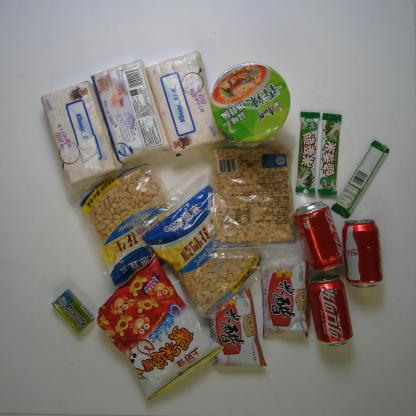Chocolate: (332, 140, 390, 220), (295, 112, 320, 195), (317, 111, 341, 196)
Dried Fruit: (141, 184, 261, 312), (81, 162, 171, 281), (208, 144, 293, 249)
Drink: (294, 202, 343, 270), (308, 274, 352, 347), (342, 220, 383, 289)
Gum: (50, 288, 96, 334)
Instant Noodles: (209, 63, 291, 143)
Puffed Food: (96, 255, 224, 400)
Seasoner: (206, 290, 269, 369), (259, 263, 308, 340)
Tissue: (39, 81, 122, 188), (91, 58, 171, 164), (144, 51, 222, 156)
